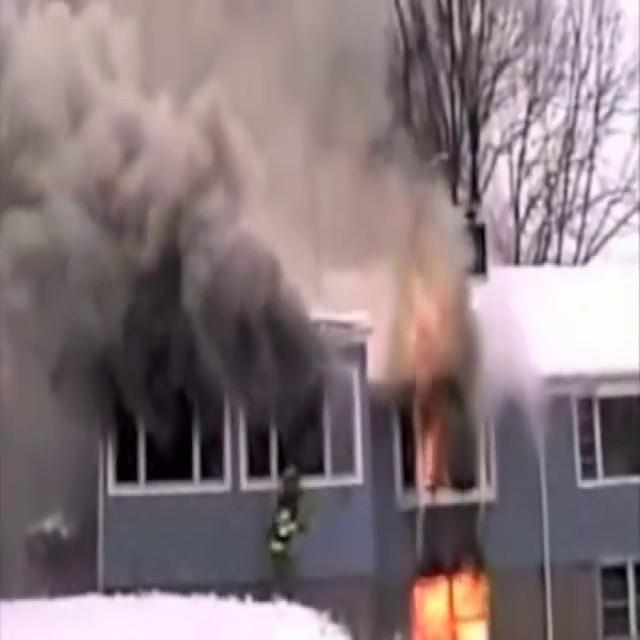Fire: (404, 546, 502, 640)
Smoke: (0, 1, 485, 524)
